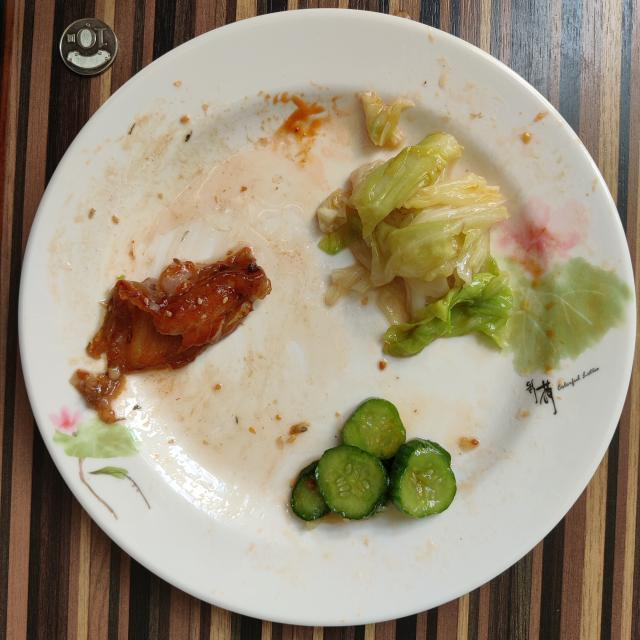Kabayaki sea bream fillet: (71, 248, 271, 422)
cabbage: (318, 132, 512, 356), (361, 92, 412, 148)
coin: (60, 19, 118, 75)
cucumber: (290, 399, 456, 521)
